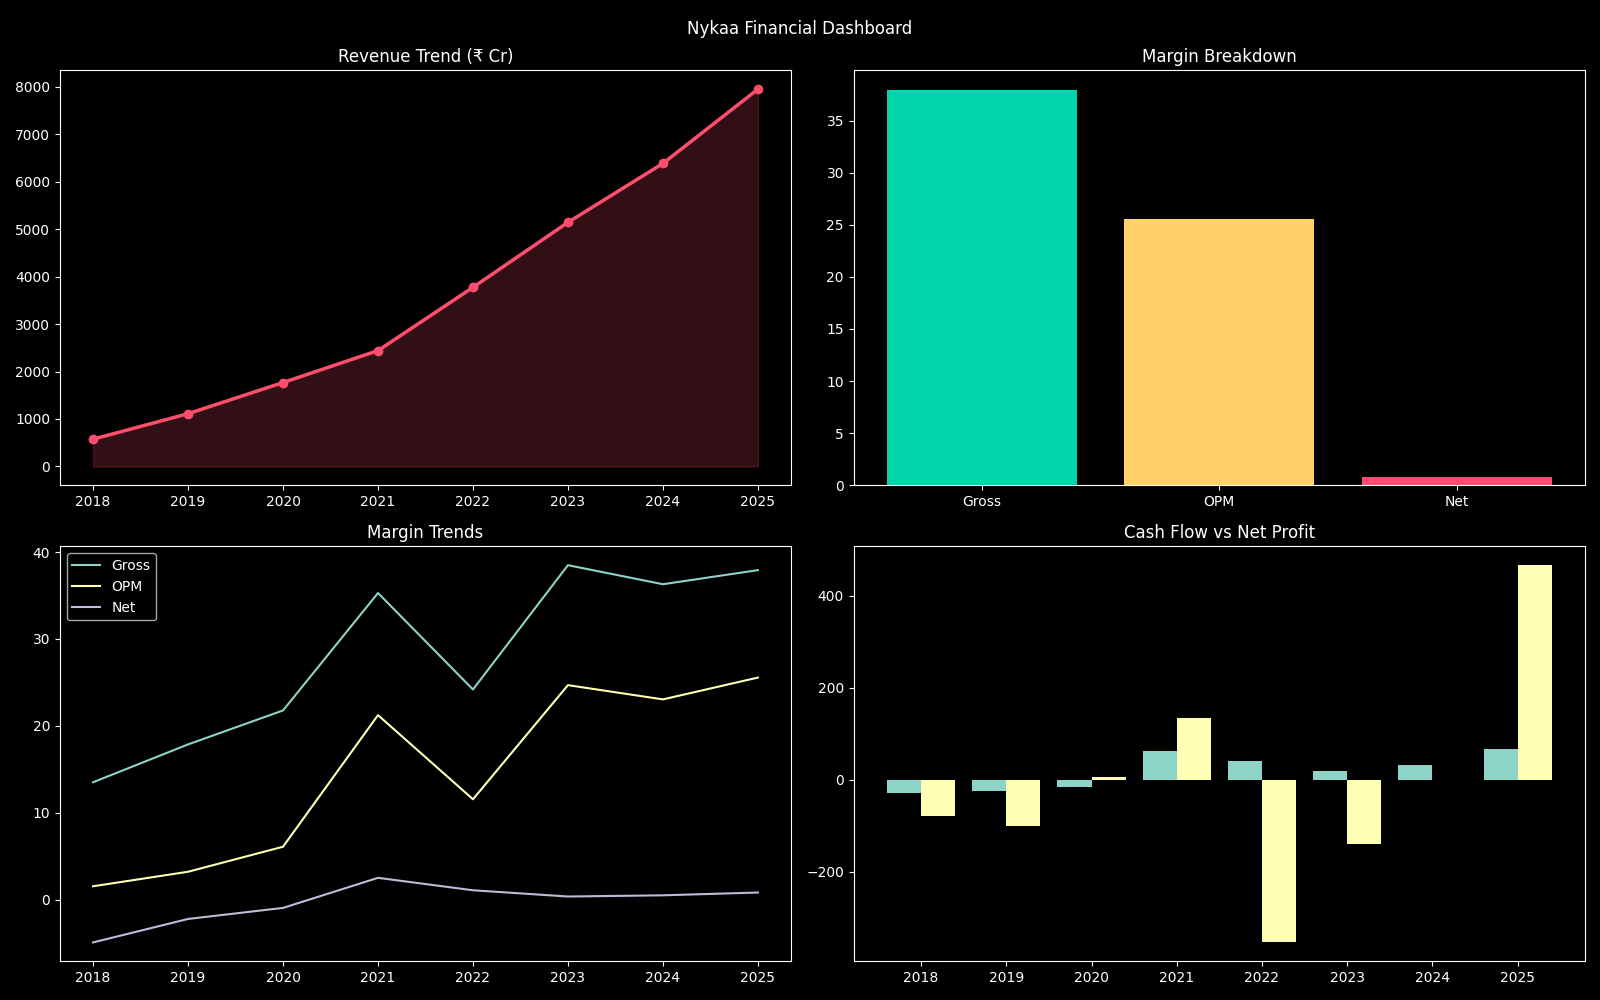

This screenshot's page, from the dashboard's own definition file:
{"tool":"powerbi","page":{"name":"Page 1","canvas":[1280,800],"ordinal":0},"visuals":[{"type":"textbox","box":[0,0,1280,58.3],"z":0},{"type":"card","title":"Revenue","fields":{"Values":["master_annual.Total Revenue"]},"box":[25,81,270,131],"z":1000},{"type":"card","title":"Revenue","fields":{"Values":["master_annual.D/E Ratio"]},"box":[983.3,81,270,131],"z":2000},{"type":"card","title":"Revenue","fields":{"Values":["master_annual.Net Margin %"]},"box":[663.9,81,270,131],"z":3000},{"type":"card","title":"Revenue","fields":{"Values":["Sum(master_annual.Net_profit)"]},"box":[344.4,81,270,131],"z":4000},{"type":"shape","box":[0,160,1280,150],"z":5000},{"type":"lineChart","title":"Revenue Trend","fields":{"Category":["balance_sheet_enriched.Year"],"Y":["Sum(master_annual.Sales)"]},"box":[0,255,1280,233.3],"z":6000},{"type":"shape","box":[0,403.3,1280,211.7],"z":7000},{"type":"lineChart","title":"Margin Trends (%)","fields":{"Category":["balance_sheet_enriched.Year"],"Y":["Sum(master_annual.Gross_Margin_Pct)","Sum(master_annual.NPM_Pct)"]},"box":[0,526.7,640,243.3],"z":8000},{"type":"lineClusteredColumnComboChart","title":" Net Profit","fields":{"Category":["cash_flow_clean.Year"],"Y":["master_annual.Net Profit"]},"box":[655,528.3,625,243.3],"z":9000},{"type":"shape","box":[0,683.3,1280,211.7],"z":9001}]}

Visuals, with their boxes in screenshot pixels (x1, y1, x2, y2), scaled from the page's 1280x800 canvas onto the 1600x1000 screenshot:
textbox: bbox=[0, 0, 1599, 73]
"Revenue" card: bbox=[31, 101, 369, 265]
"Revenue" card: bbox=[1229, 101, 1567, 265]
"Revenue" card: bbox=[830, 101, 1167, 265]
"Revenue" card: bbox=[430, 101, 768, 265]
shape: bbox=[0, 200, 1599, 388]
"Revenue Trend" lineChart: bbox=[0, 319, 1599, 610]
shape: bbox=[0, 504, 1599, 769]
"Margin Trends (%)" lineChart: bbox=[0, 658, 800, 962]
" Net Profit" lineClusteredColumnComboChart: bbox=[819, 660, 1599, 964]
shape: bbox=[0, 854, 1599, 999]
